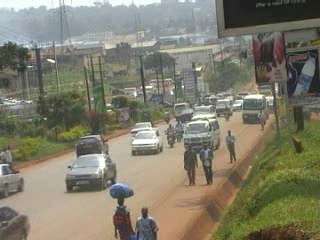Car: (63, 152, 118, 193), (0, 204, 33, 239), (74, 134, 113, 162), (0, 160, 26, 197), (129, 130, 164, 157), (129, 120, 161, 137), (228, 98, 245, 113)
Motorcycle: (164, 130, 178, 148), (173, 125, 184, 142), (222, 109, 231, 122), (162, 113, 171, 125)
